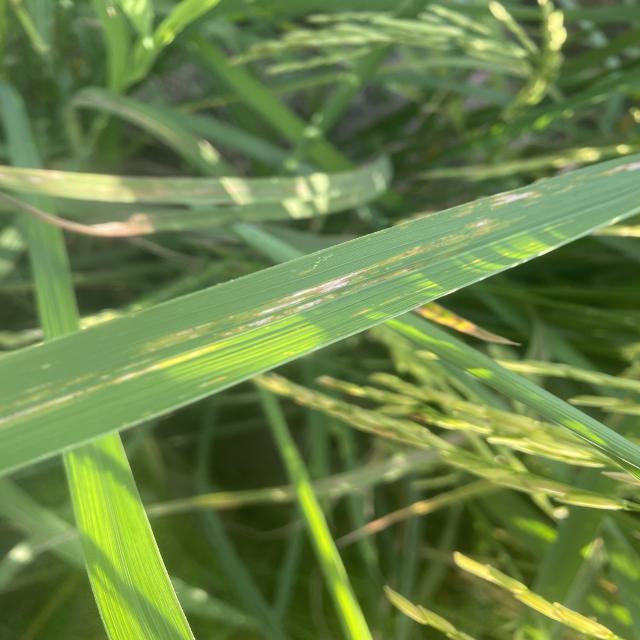Dom soc vi khuan: (219, 293, 339, 338), (274, 265, 380, 303), (341, 265, 416, 294), (381, 296, 402, 305), (352, 309, 372, 317)
